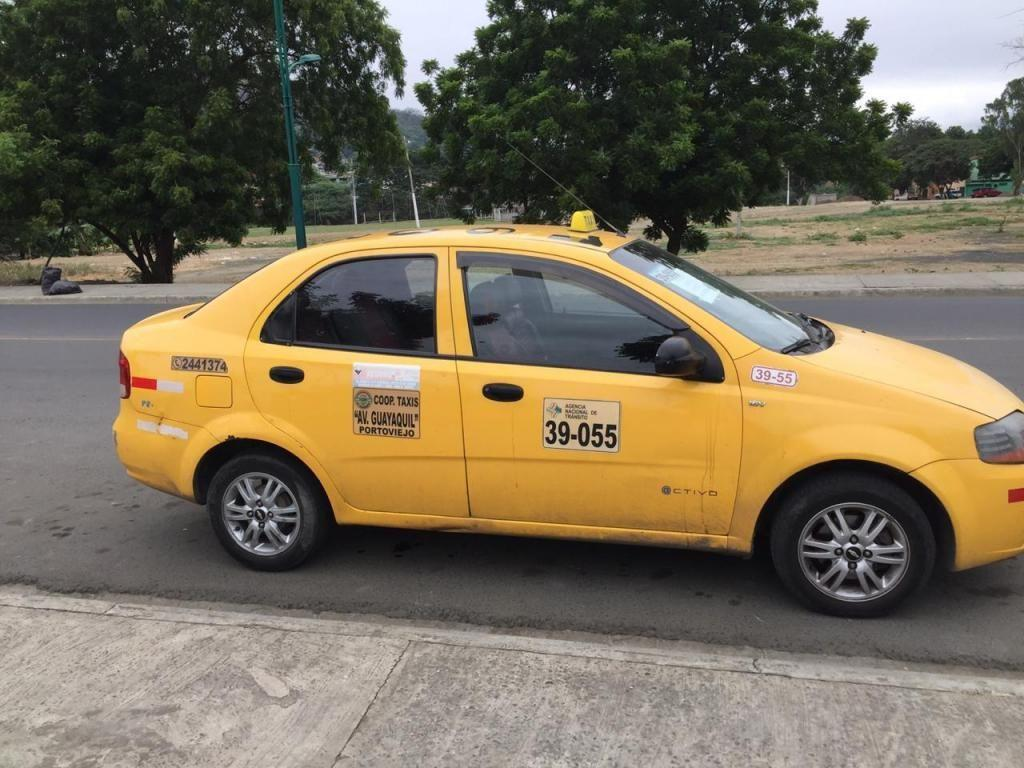taxi: (78, 174, 1024, 601)
